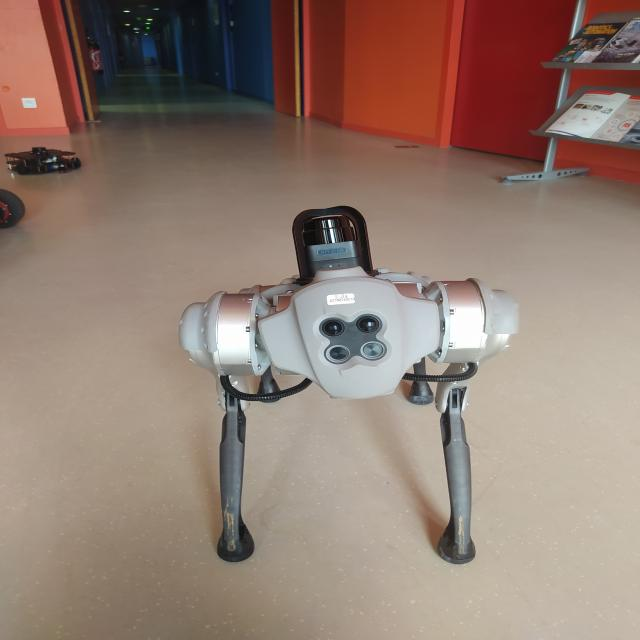unitree-go1-robot: (167, 193, 532, 570)
